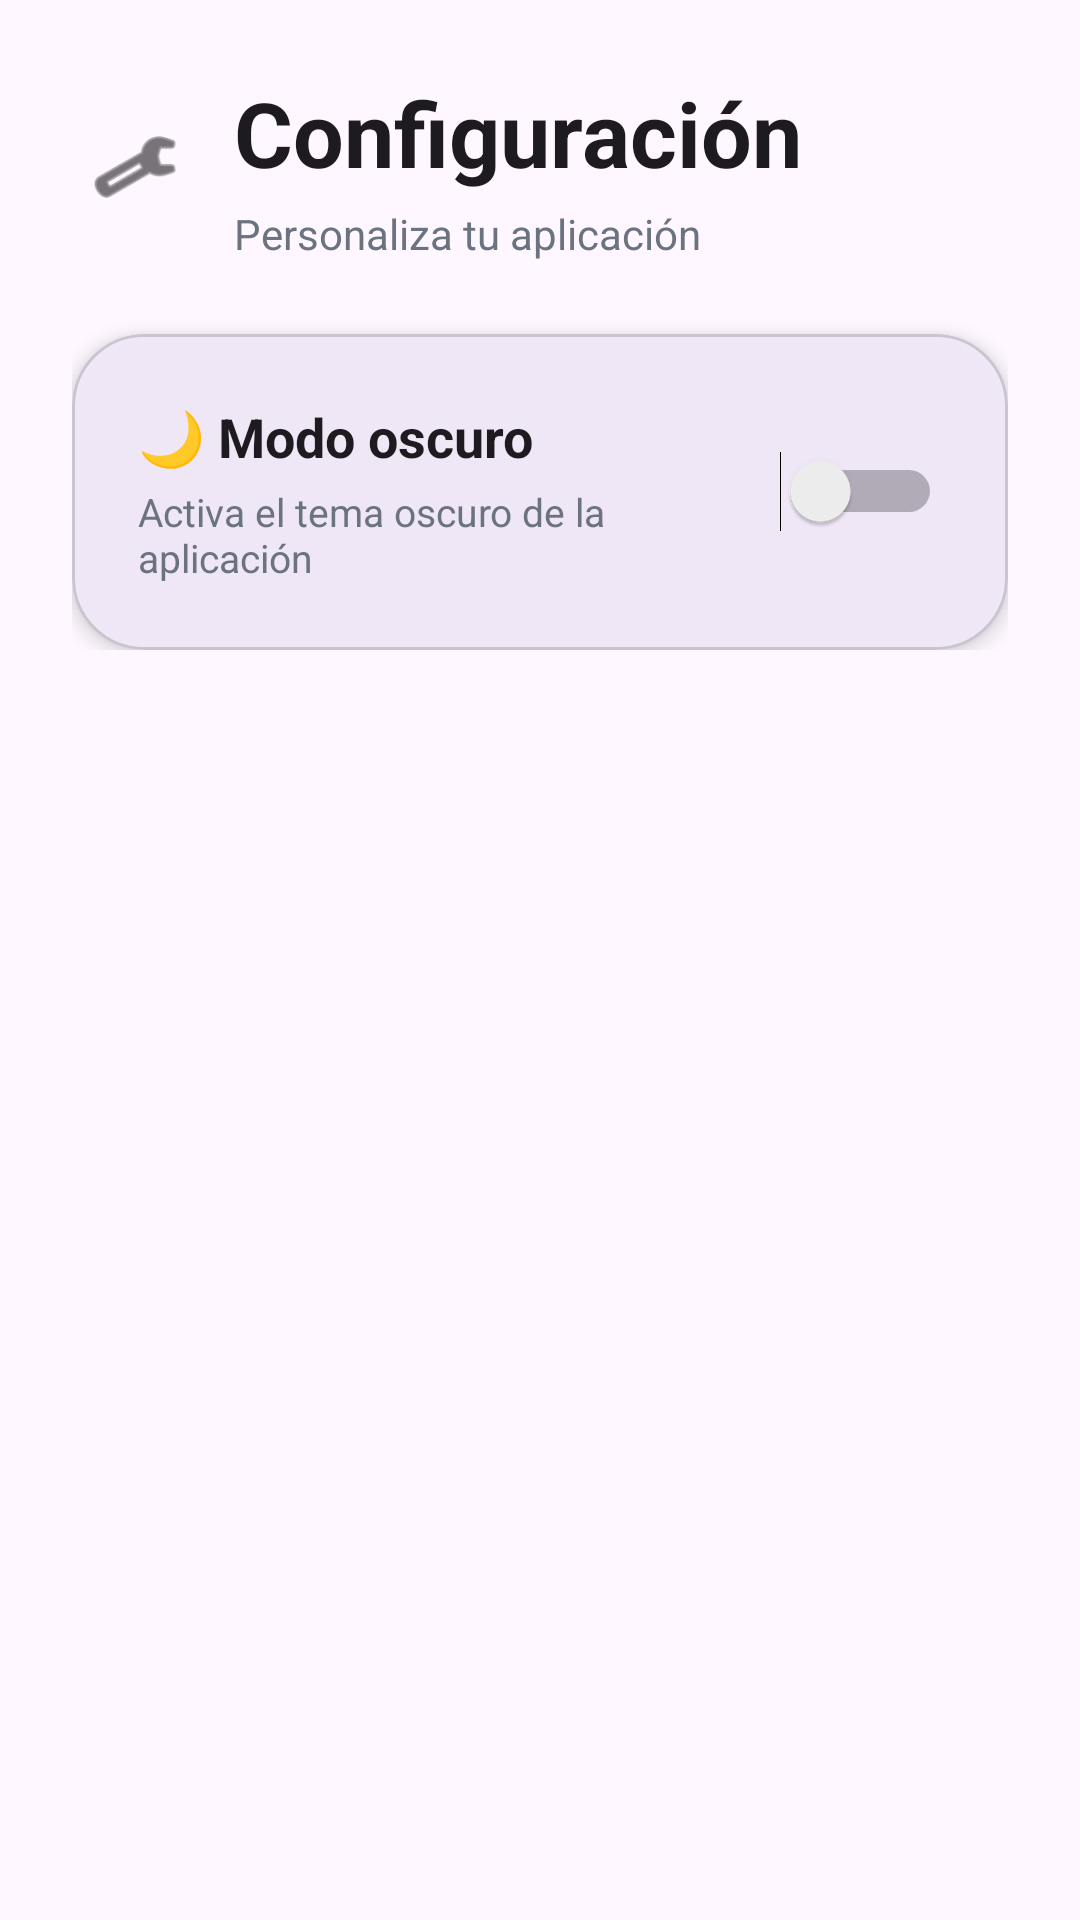

Locate icon controls on the screen. Image size 1080 × 1920, boxes as (x1, y1, x2, y2).
manage: (94, 136, 176, 198)
